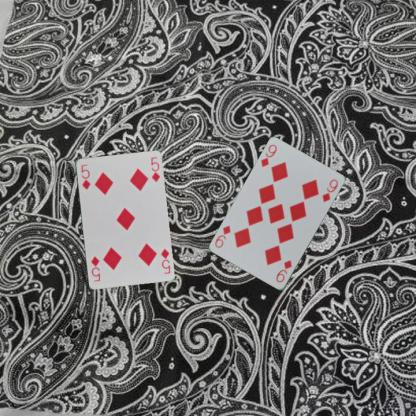5d: (158, 246, 171, 275), (79, 162, 91, 190)
9d: (258, 142, 278, 169), (274, 258, 294, 284)
